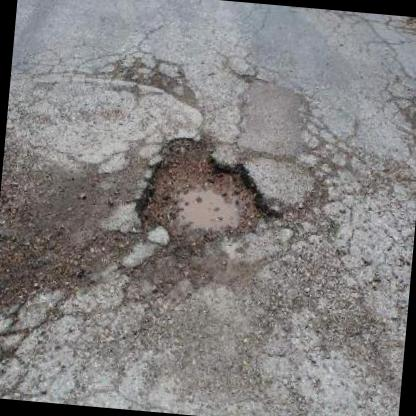pothole: (127, 126, 287, 264)
